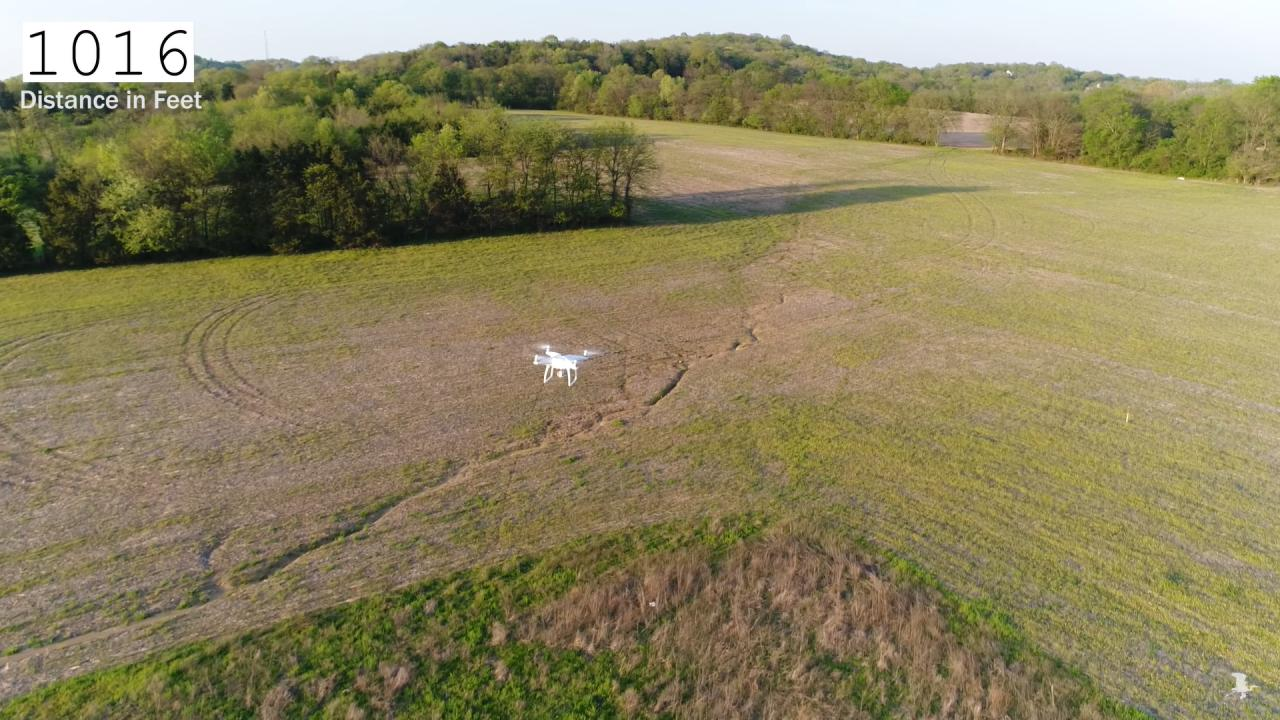Drone: (509, 336, 616, 393)
